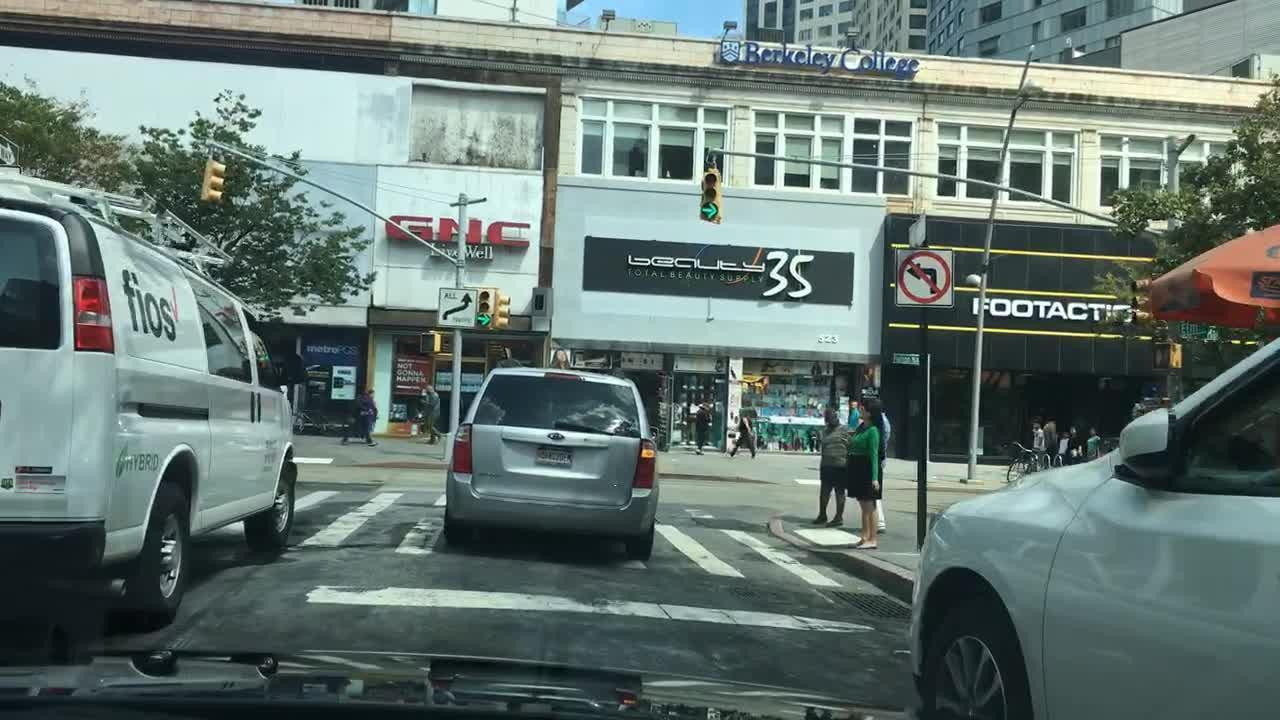kia: (544, 427, 566, 444)
